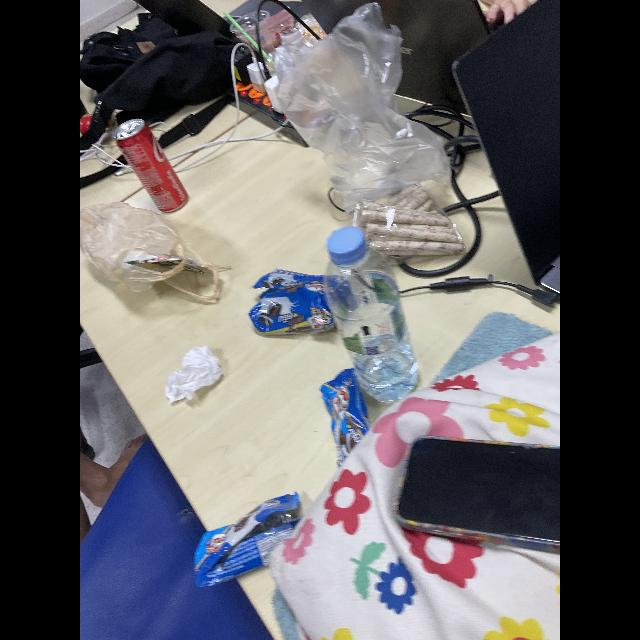can: (113, 115, 195, 217)
plastic_bag: (274, 0, 454, 216), (80, 198, 228, 314)
plastic_bottle: (316, 223, 426, 407), (276, 24, 306, 62)
plastic_bottle_cap: (326, 225, 366, 259)
plastic_cup: (226, 0, 272, 58)
scrap_paper: (162, 340, 226, 410)
snack_bag: (188, 486, 310, 594), (348, 185, 468, 263), (249, 269, 361, 339), (319, 366, 375, 469)
straw: (220, 9, 262, 49)
